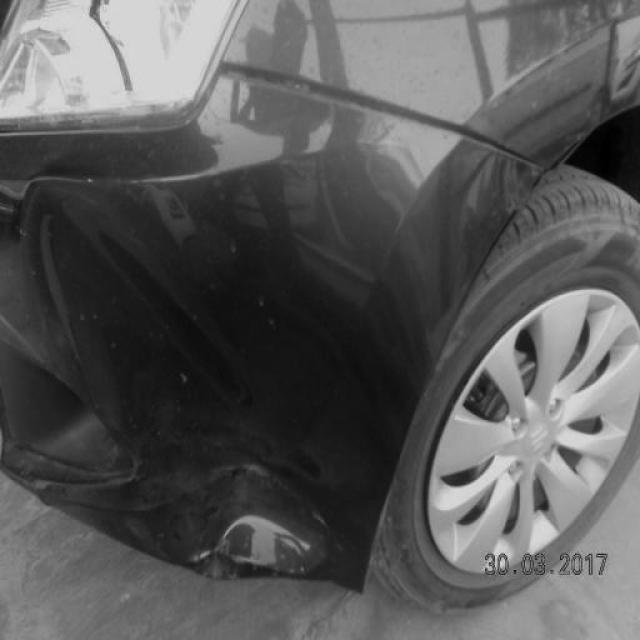car damage: (19, 183, 380, 578)
